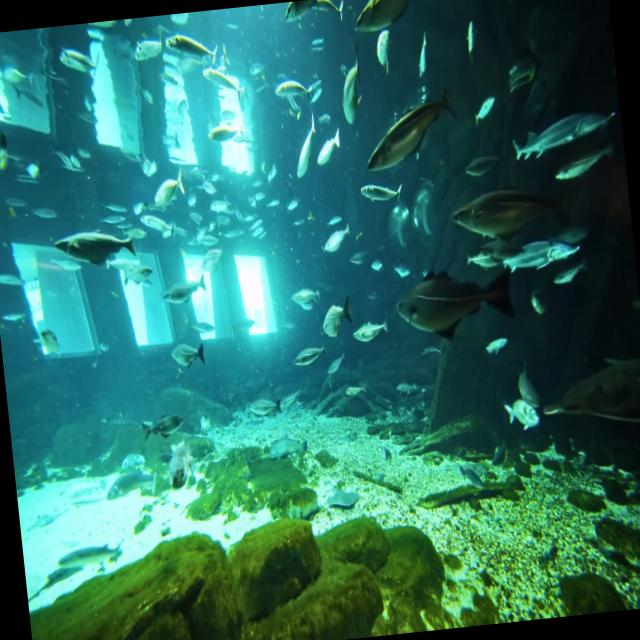fish: (394, 260, 516, 346), (359, 85, 457, 173), (508, 104, 611, 161), (53, 227, 138, 272), (350, 0, 416, 37), (336, 46, 366, 125), (160, 28, 220, 64), (160, 274, 208, 310), (137, 410, 185, 442), (319, 294, 352, 338), (284, 0, 344, 23), (167, 336, 206, 371), (152, 169, 186, 207), (350, 315, 389, 346)
